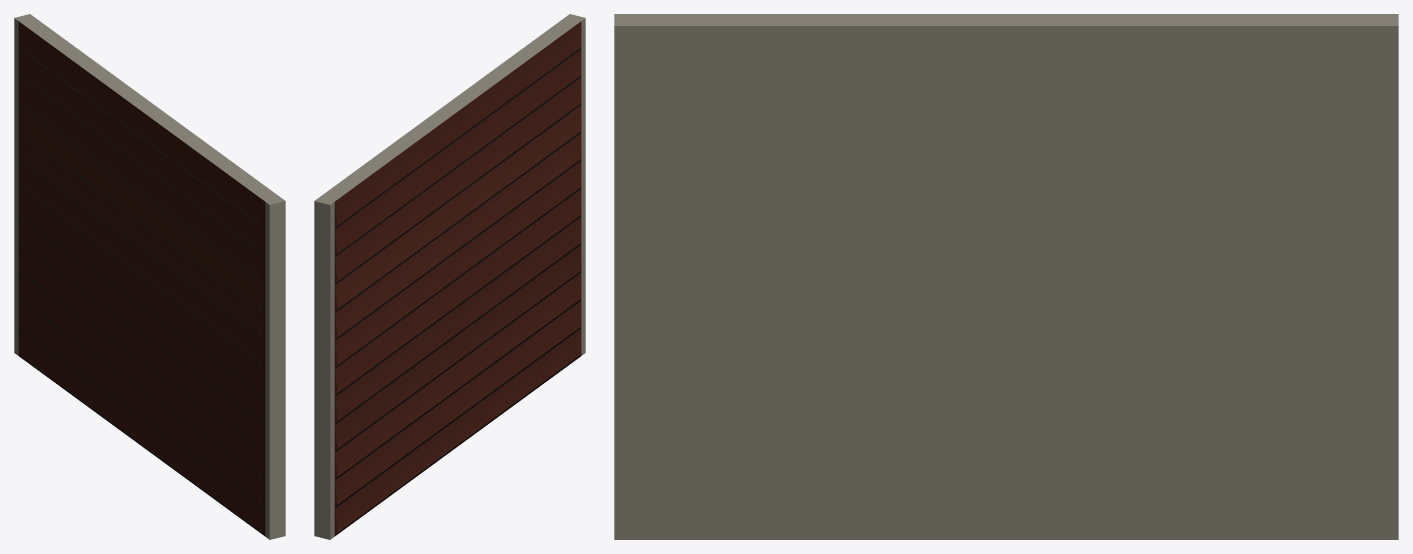
File: TSP_House_Wall_Short_12A.fbx
3 renders of one model, left to right at view 1: azimuth 30°, elevation 25°; view 2: azimuth 150°, elevation 25°; view 3: azimuth 270°, elevation 25°, orthographic. The views are drawn at different scales.
Parts seen in each view (by area): view 1: TSP_House_Wall_Short_12A; view 2: TSP_House_Wall_Short_12A; view 3: TSP_House_Wall_Short_12A.
Part boxes in pixels (x1,y1,x2,y2): TSP_House_Wall_Short_12A: (14,14,285,539); TSP_House_Wall_Short_12A: (314,14,585,539); TSP_House_Wall_Short_12A: (614,14,1398,539).
Bounding box in the file's own units: 0.16 × 3 × 4.15.
